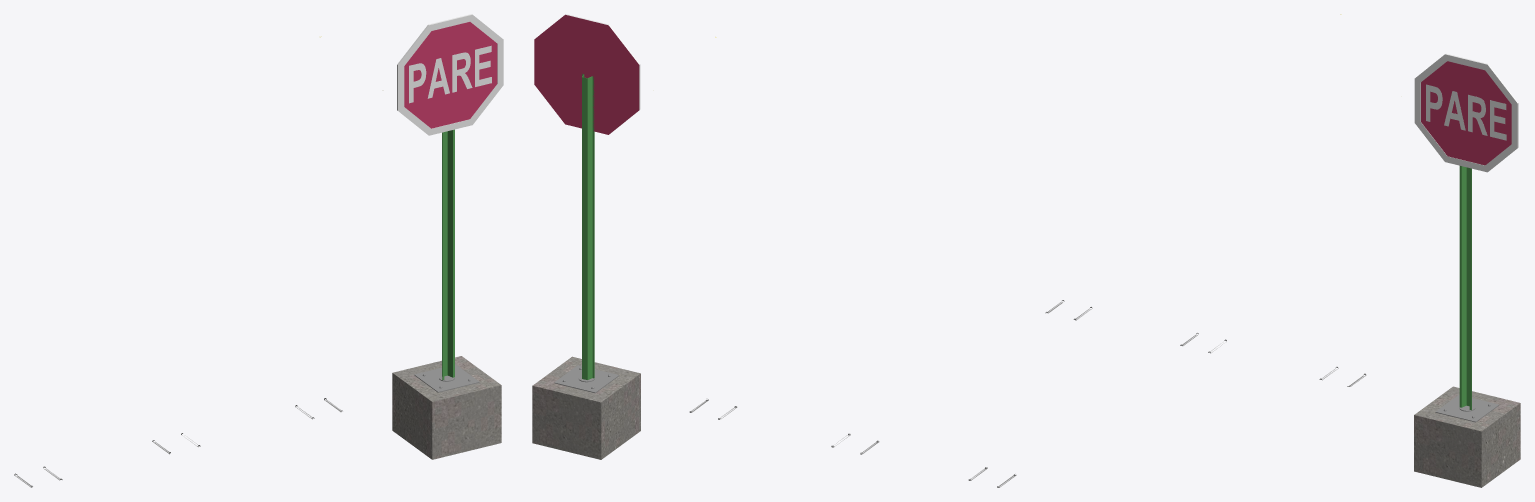
Rendered from señal.gltf.
3 views of the same model, side by side, from view 1: azimuth 30°, elevation 25°; view 2: azimuth 150°, elevation 25°; view 3: azimuth 330°, elevation 25° (orthographic). The views are drawn at different scales.
Parts seen in each view (by area): view 1: señales; view 2: señales; view 3: señales.
Part boxes in pixels (left/top/right/bottom): señales: left=14, top=14, right=503, bottom=487; señales: left=532, top=14, right=1016, bottom=487; señales: left=1045, top=14, right=1520, bottom=487.
Size of the model in its own units: 2.73 by 2.36 by 0.395.
Materials: 6 (1 with a texture image).
